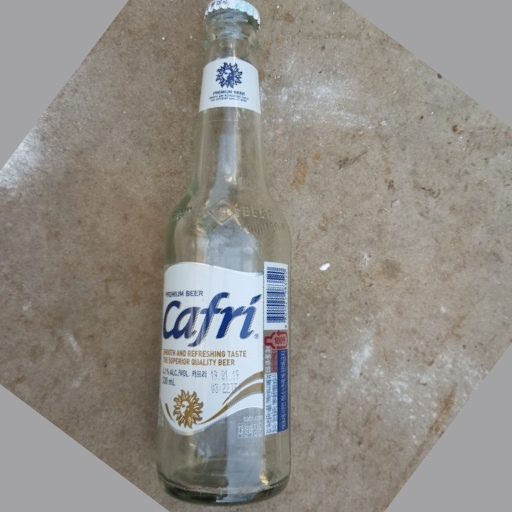Glass_1: (154, 1, 296, 501)
